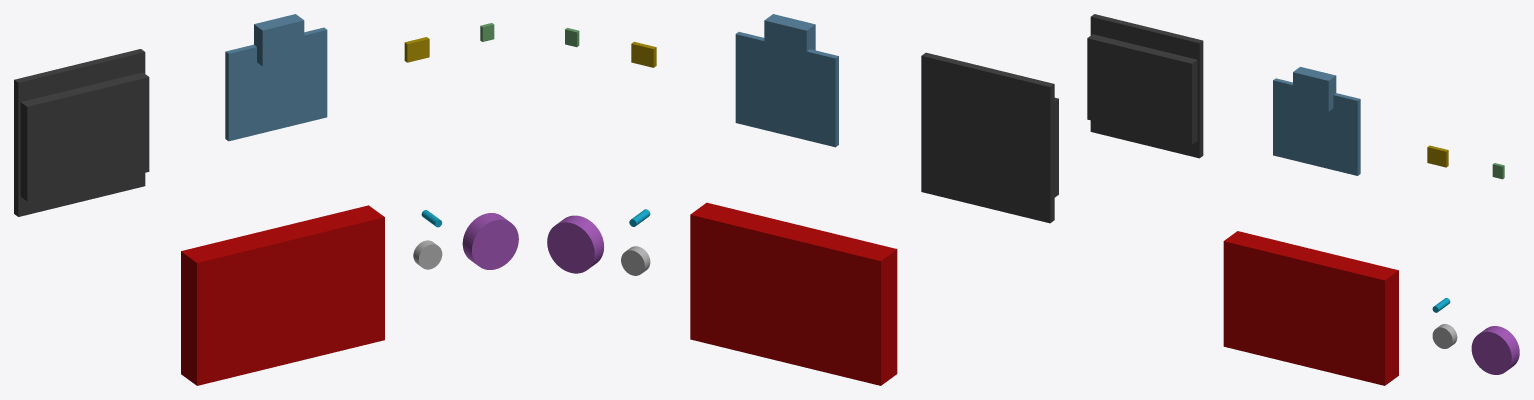
The model's file is cat-collar-parts.glb.
The picture shows the model from 3 angles, left to right: view 1: azimuth 30°, elevation 25°; view 2: azimuth 150°, elevation 25°; view 3: azimuth 330°, elevation 25°; orthographic projection. The views are drawn at different scales.
Parts seen in each view (by area): view 1: LiPo_~500mAh, OLED_glass, XIAO_ESP32S3, OLED_0.96in, Vibration_motor, USB_C, Magnet_5x2, INMP441_IC; view 2: LiPo_~500mAh, OLED_0.96in, XIAO_ESP32S3, Vibration_motor, USB_C, Magnet_5x2, INMP441_IC, OLED_glass; view 3: LiPo_~500mAh, OLED_glass, XIAO_ESP32S3, OLED_0.96in, Vibration_motor, USB_C, Magnet_5x2, INMP441_IC.
Boxes of the visible parts, left/top/right/bottom form: LiPo_~500mAh: left=181, top=205, right=384, bottom=385; OLED_glass: left=20, top=72, right=149, bottom=201; XIAO_ESP32S3: left=225, top=27, right=327, bottom=141; OLED_0.96in: left=14, top=49, right=145, bottom=216; Vibration_motor: left=462, top=213, right=518, bottom=269; USB_C: left=254, top=14, right=304, bottom=66; Magnet_5x2: left=413, top=240, right=442, bottom=269; INMP441_IC: left=404, top=37, right=429, bottom=62; LiPo_~500mAh: left=690, top=202, right=897, bottom=385; OLED_0.96in: left=921, top=52, right=1054, bottom=223; XIAO_ESP32S3: left=735, top=32, right=838, bottom=147; Vibration_motor: left=547, top=215, right=603, bottom=273; USB_C: left=764, top=14, right=815, bottom=65; Magnet_5x2: left=621, top=246, right=650, bottom=275; INMP441_IC: left=631, top=41, right=656, bottom=67; OLED_glass: left=1054, top=97, right=1058, bottom=197; LiPo_~500mAh: left=1223, top=231, right=1398, bottom=385; OLED_glass: left=1087, top=34, right=1197, bottom=144; XIAO_ESP32S3: left=1273, top=78, right=1360, bottom=175; OLED_0.96in: left=1090, top=14, right=1203, bottom=158; Vibration_motor: left=1471, top=326, right=1519, bottom=374; USB_C: left=1293, top=67, right=1336, bottom=111; Magnet_5x2: left=1432, top=324, right=1457, bottom=348; INMP441_IC: left=1427, top=145, right=1448, bottom=167.
Size of the model in its own units: 106 by 68.15 by 6.
